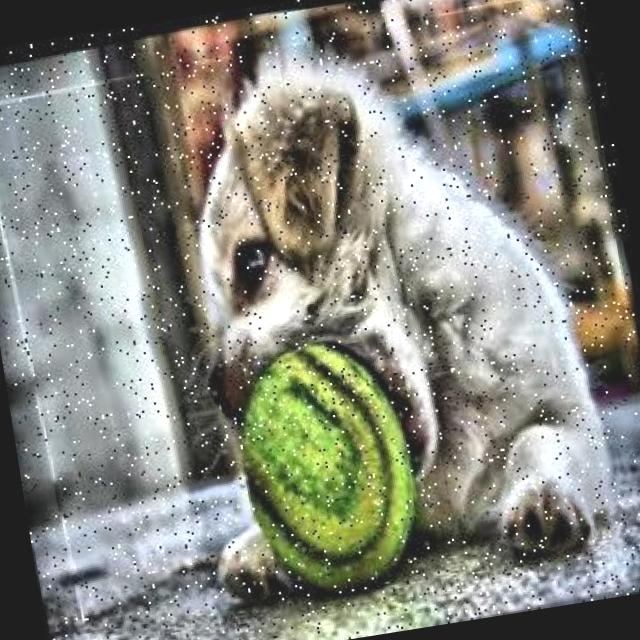Tennis Ball: (200, 318, 457, 620)
